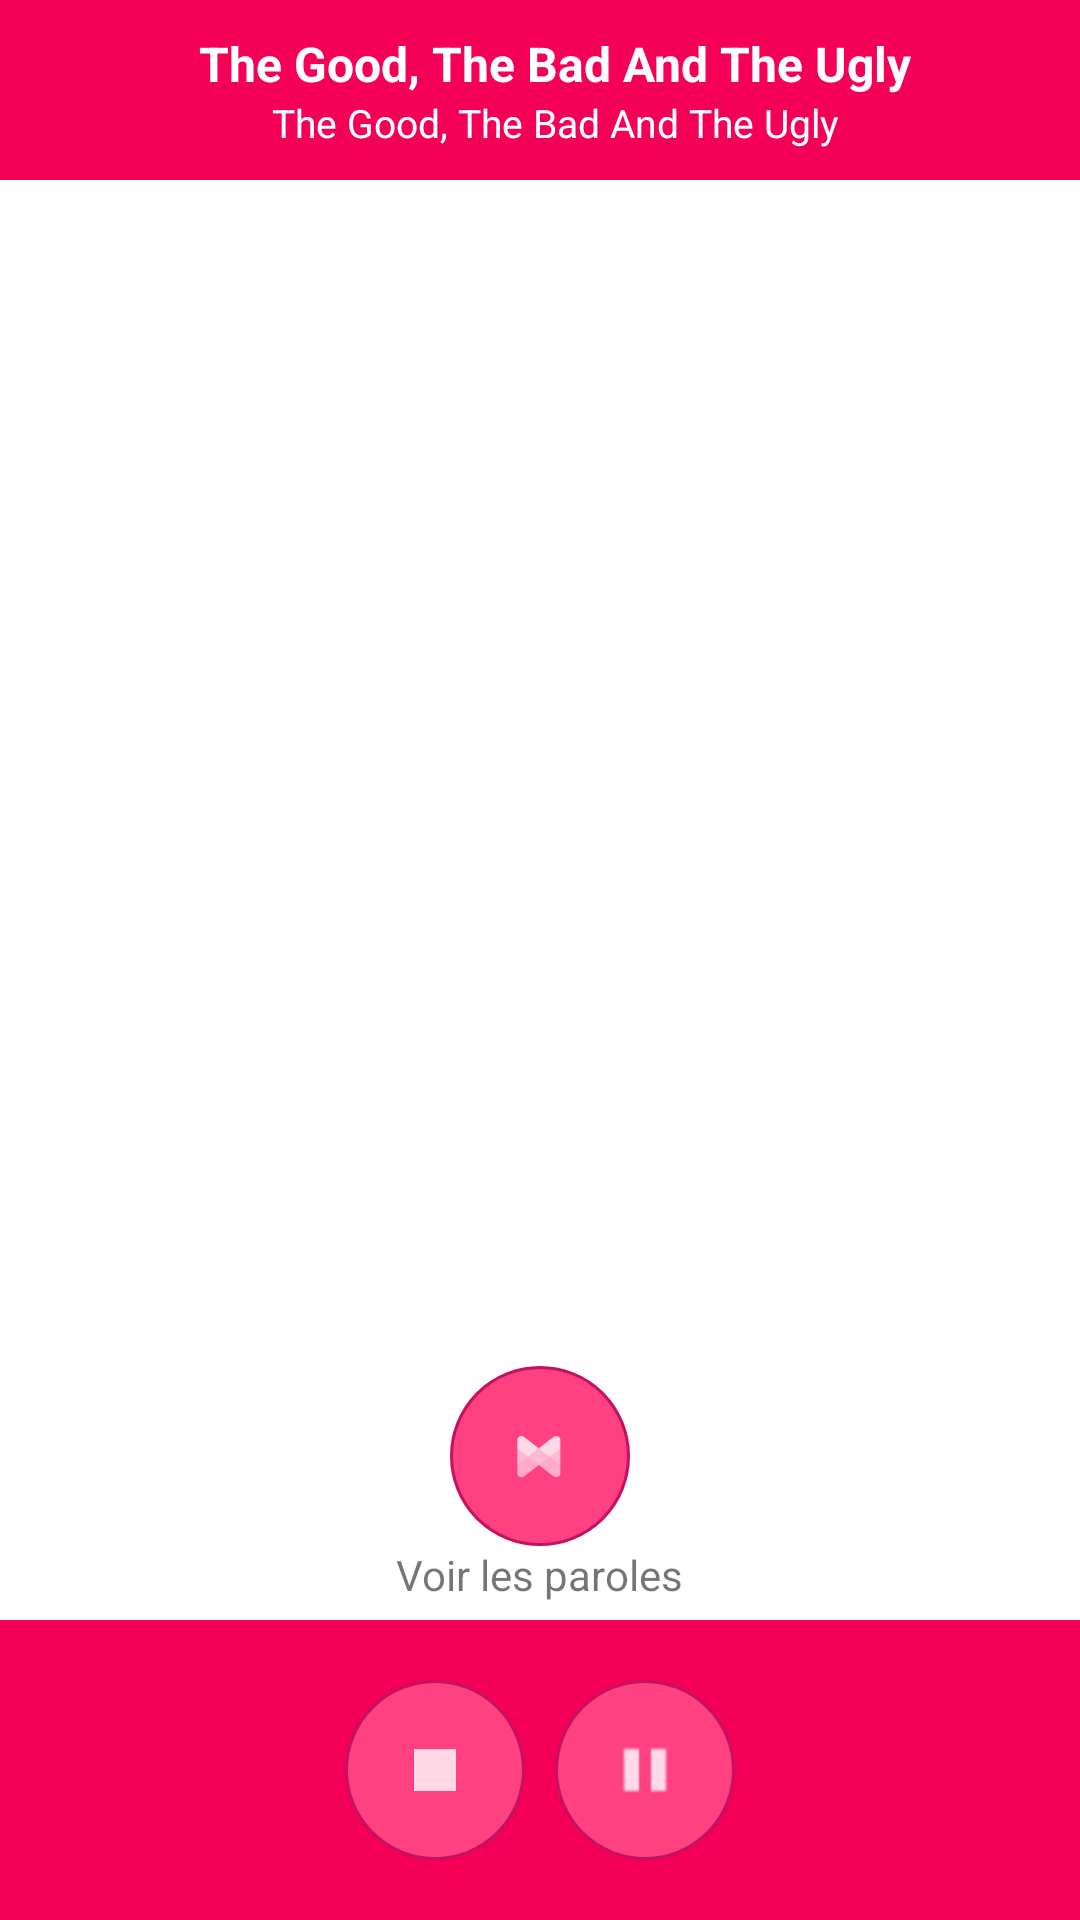

Icons on this 1080*1920 Android screen, each with the point to tap as (x,y):
playpausebtn: (645,1770)
stop: (435,1770)
